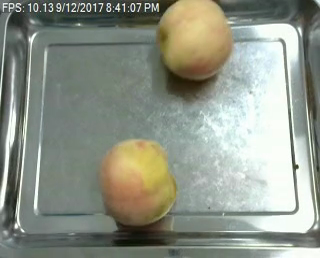Peach: (99, 138, 176, 227), (156, 0, 233, 80)
